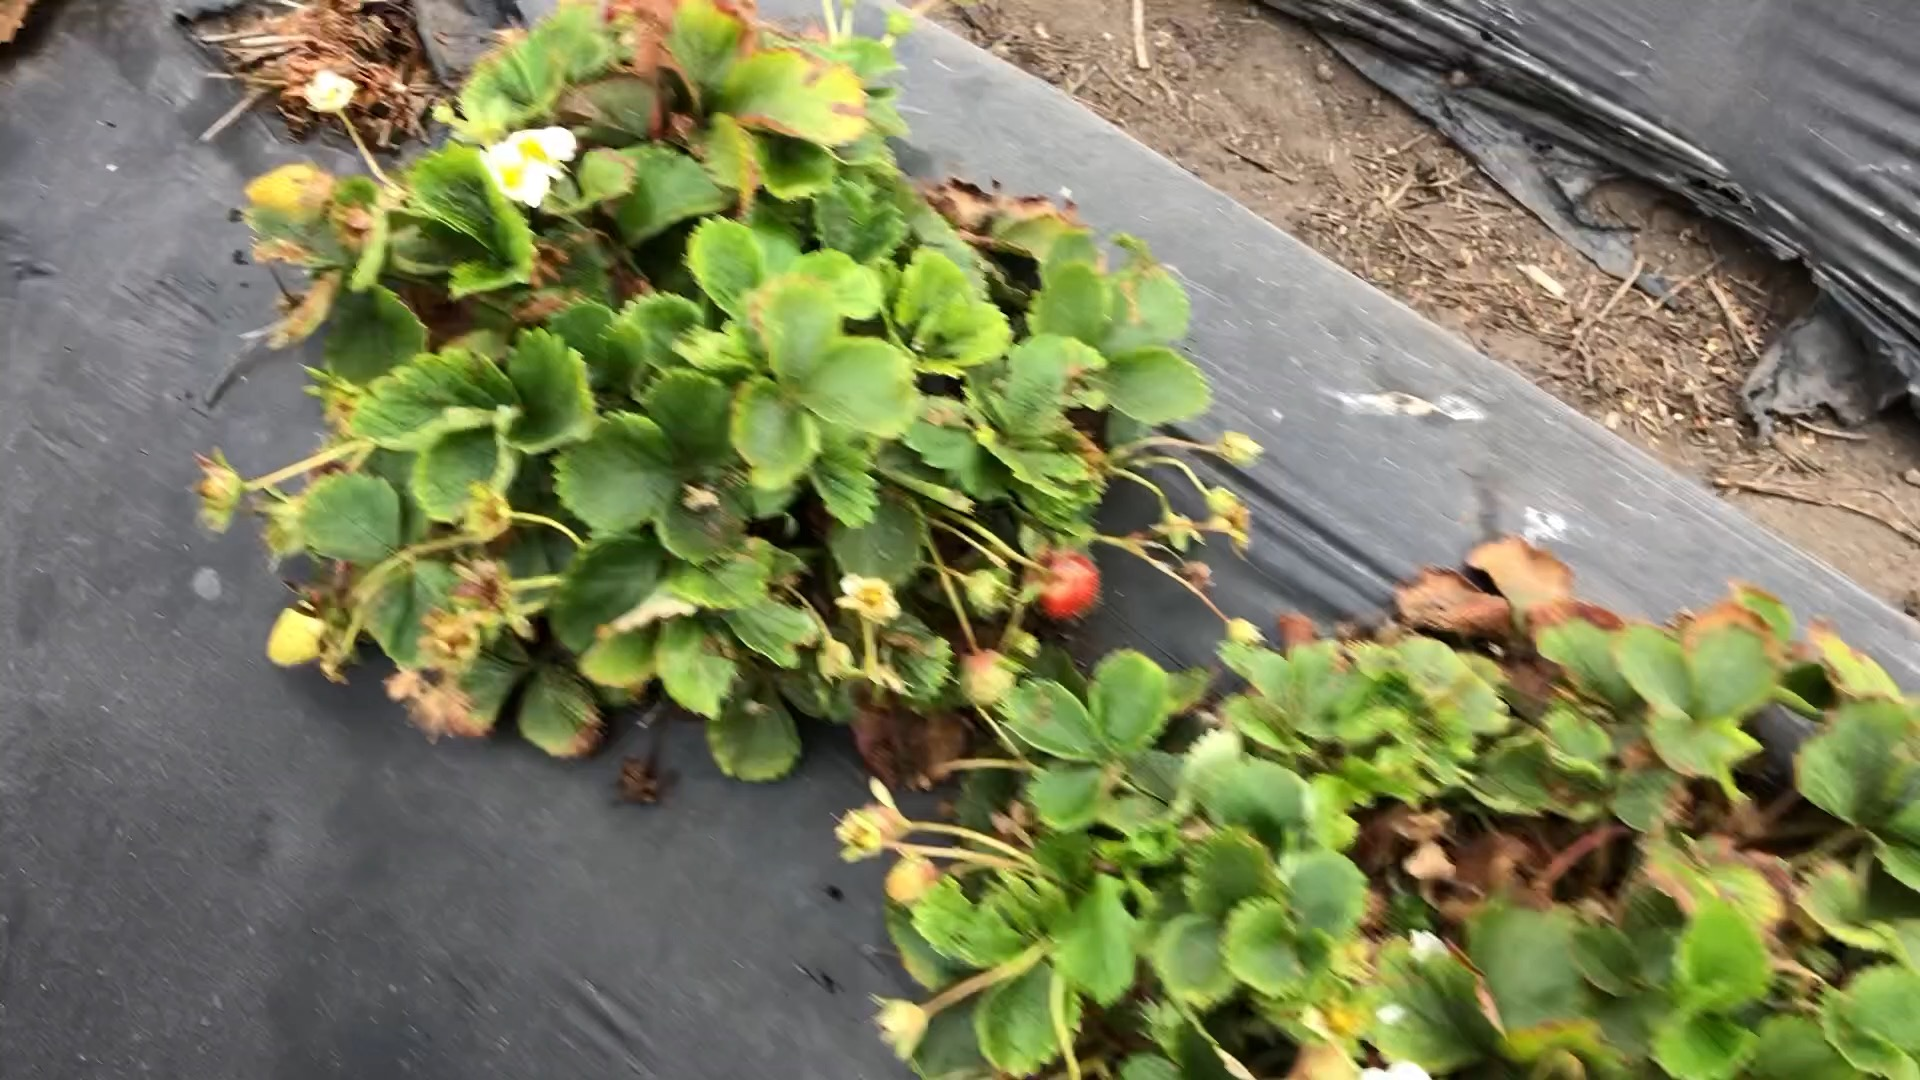ripe_strawberry: (1029, 545, 1106, 622)
unripe_strawberry: (243, 160, 331, 225), (261, 597, 338, 671), (955, 644, 1019, 708)
